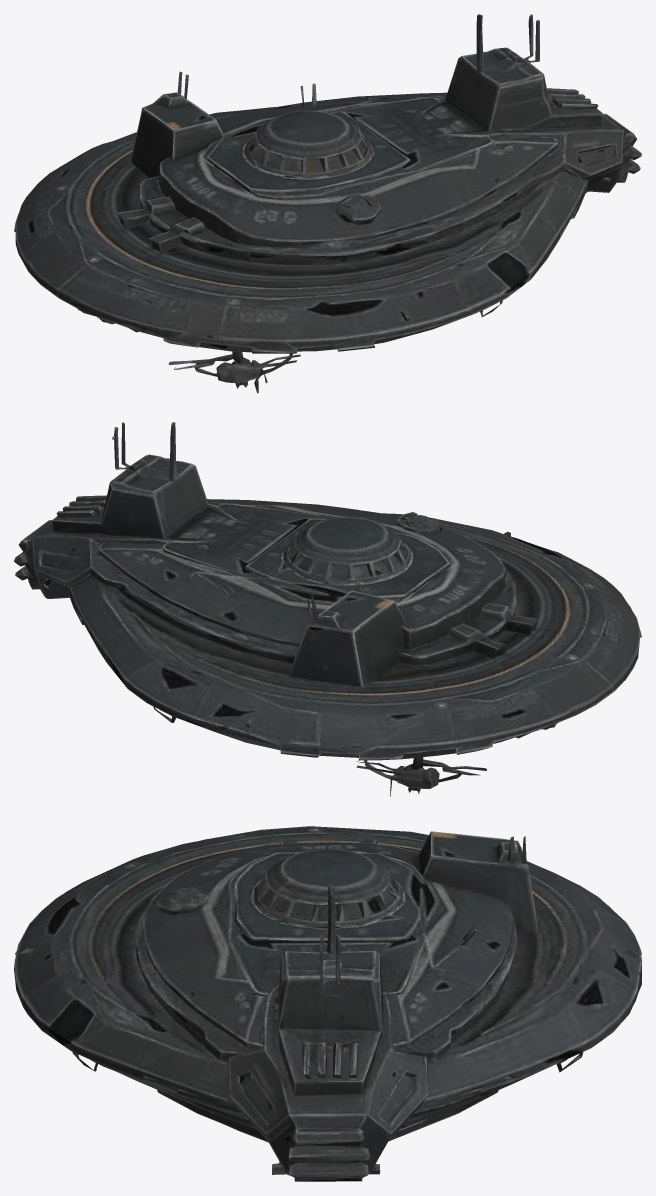
The model's file is enemy-jupiter-fortress.glb.
The picture shows the model from 3 angles, top to bottom: view 1: azimuth 30°, elevation 25°; view 2: azimuth 150°, elevation 25°; view 3: azimuth 270°, elevation 25°; orthographic projection. The views are drawn at different scales.
Bounding box in the file's own units: 1.9 × 0.8325 × 1.52.
1 material, 1 textured.
